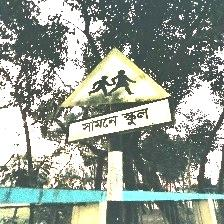School-in-front: (60, 48, 173, 144)
